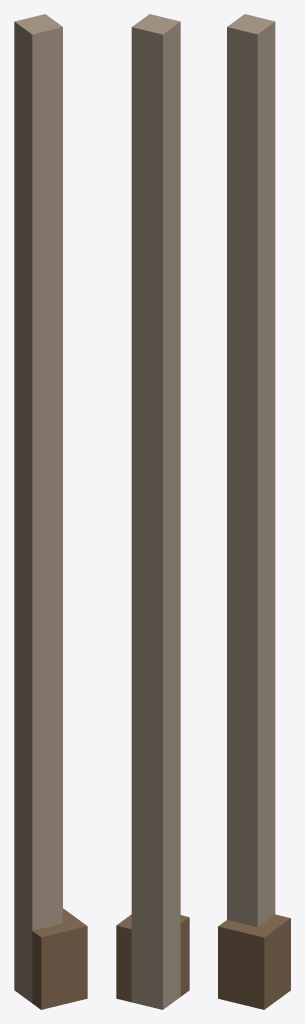
File: Mesh_WallBaseboard_B6.fbx
The picture shows the model from 3 angles, left to right: view 1: azimuth 30°, elevation 25°; view 2: azimuth 150°, elevation 25°; view 3: azimuth 330°, elevation 25°; orthographic projection.
Parts seen in each view (by area): view 1: Mesh_WallBaseboard_B6; view 2: Mesh_WallBaseboard_B6; view 3: Mesh_WallBaseboard_B6.
Boxes of the visible parts, bbox=[...] form: Mesh_WallBaseboard_B6: bbox=[14, 14, 87, 1009]; Mesh_WallBaseboard_B6: bbox=[116, 14, 189, 1009]; Mesh_WallBaseboard_B6: bbox=[218, 14, 290, 1009].
Bounding box in the file's own units: 0.15 × 3 × 0.15.
